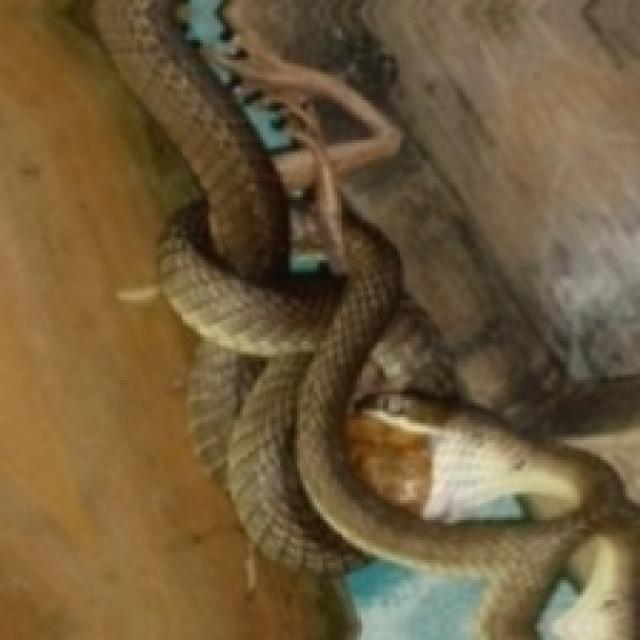paradise tree snake: (94, 0, 637, 637)
